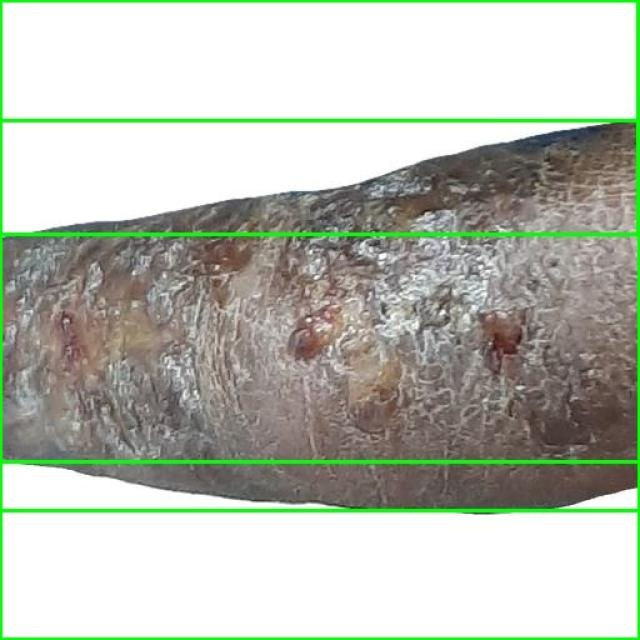Eczema: (0, 120, 639, 510), (0, 0, 639, 235), (0, 461, 639, 639)
